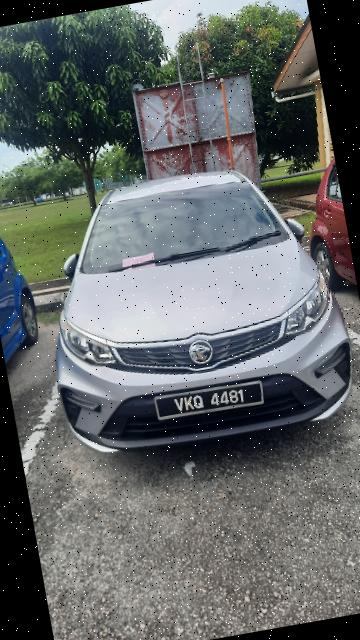License_Plate: (149, 373, 271, 428)
car: (19, 142, 360, 474)
